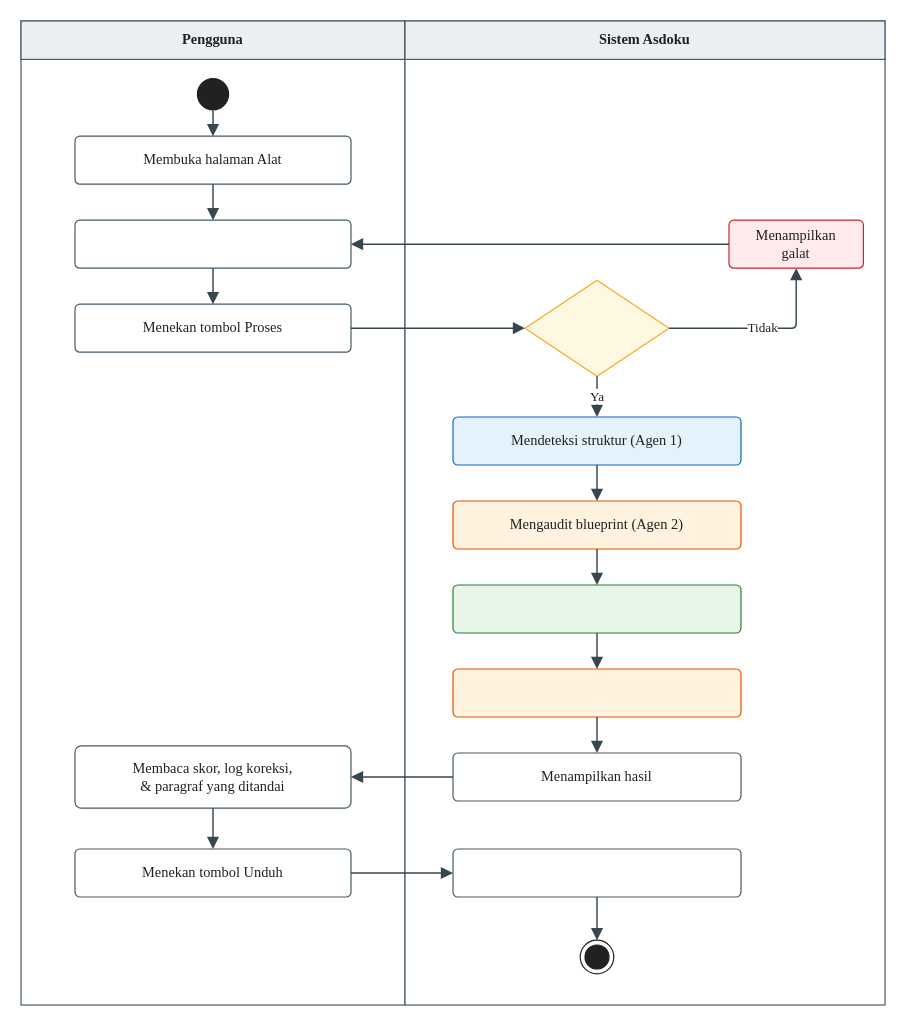
This 906x1026 diagram has some shape labels left out. The box of each missing label's shape, as (x1, y1, x2, y2) in pixels:
Berkas .docx?: (524, 279, 669, 376)
Memilih / menyeret berkas .docx: (74, 219, 351, 268)
Mengirim berkas hasil: (452, 848, 741, 897)
Menguji 8 kriteria (Agen 2): (452, 668, 741, 717)
Menyusun dokumen (Agen 3): (452, 584, 741, 633)
